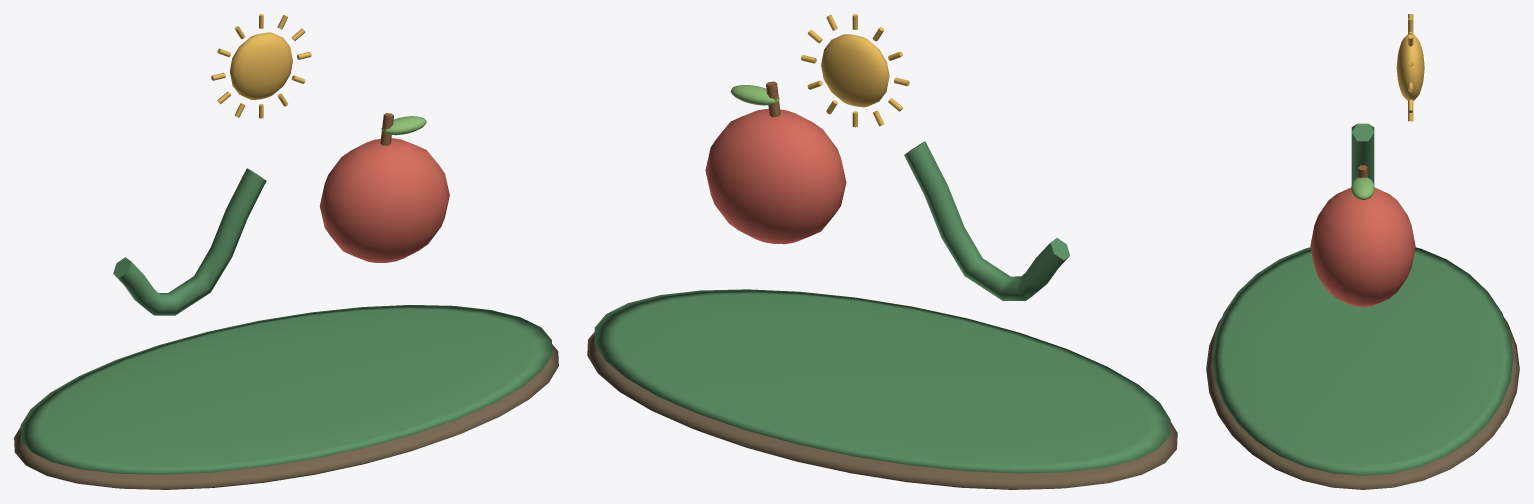
Rendered from complete-third-successful-ripening.glb.
3 views of the same model, side by side, from view 1: azimuth 30°, elevation 25°; view 2: azimuth 150°, elevation 25°; view 3: azimuth 270°, elevation 25° (orthographic). The views are drawn at different scales.
Visible parts, largest first — view 1: complete-third-successful-ripening_surface_01, complete-third-successful-ripening_surface_02, complete-third-successful-ripening_surface_00, complete-third-successful-ripening_surface_05, complete-third-successful-ripening_surface_04; view 2: complete-third-successful-ripening_surface_01, complete-third-successful-ripening_surface_02, complete-third-successful-ripening_surface_00, complete-third-successful-ripening_surface_05, complete-third-successful-ripening_surface_04; view 3: complete-third-successful-ripening_surface_01, complete-third-successful-ripening_surface_02, complete-third-successful-ripening_surface_00, complete-third-successful-ripening_surface_05, complete-third-successful-ripening_surface_04.
Part boxes in pixels (left/top/right/bottom): complete-third-successful-ripening_surface_01: left=20, top=168, right=552, bottom=474; complete-third-successful-ripening_surface_02: left=319, top=138, right=449, bottom=262; complete-third-successful-ripening_surface_00: left=14, top=344, right=558, bottom=489; complete-third-successful-ripening_surface_05: left=211, top=14, right=311, bottom=118; complete-third-successful-ripening_surface_04: left=381, top=116, right=426, bottom=135; complete-third-successful-ripening_surface_01: left=594, top=141, right=1170, bottom=473; complete-third-successful-ripening_surface_02: left=705, top=109, right=846, bottom=244; complete-third-successful-ripening_surface_00: left=587, top=332, right=1177, bottom=489; complete-third-successful-ripening_surface_05: left=801, top=14, right=909, bottom=127; complete-third-successful-ripening_surface_04: left=730, top=85, right=779, bottom=105; complete-third-successful-ripening_surface_01: left=1212, top=123, right=1513, bottom=475; complete-third-successful-ripening_surface_02: left=1310, top=188, right=1415, bottom=307; complete-third-successful-ripening_surface_00: left=1206, top=318, right=1519, bottom=489; complete-third-successful-ripening_surface_05: left=1396, top=14, right=1424, bottom=121; complete-third-successful-ripening_surface_04: left=1351, top=177, right=1374, bottom=199.
Size of the model in its own units: 4.56 by 3.21 by 2.5.
